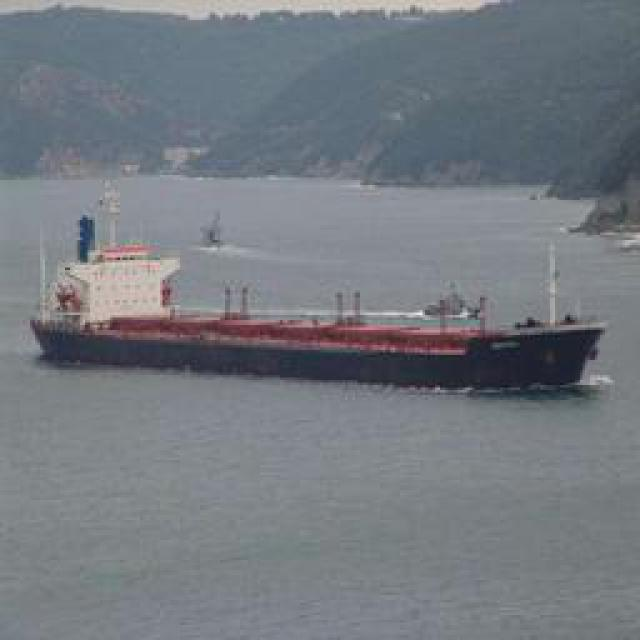Ship: (25, 225, 623, 388)
